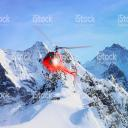helicopter: (37, 28, 96, 83)
